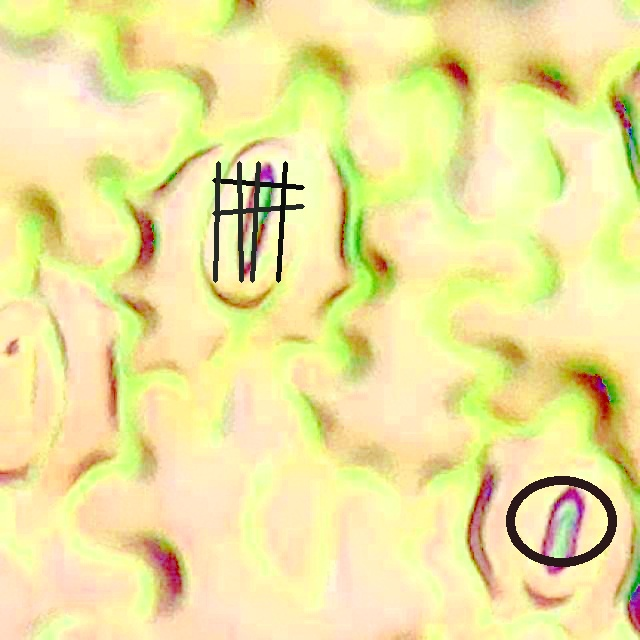open: (212, 161, 304, 282), (506, 475, 616, 567)
